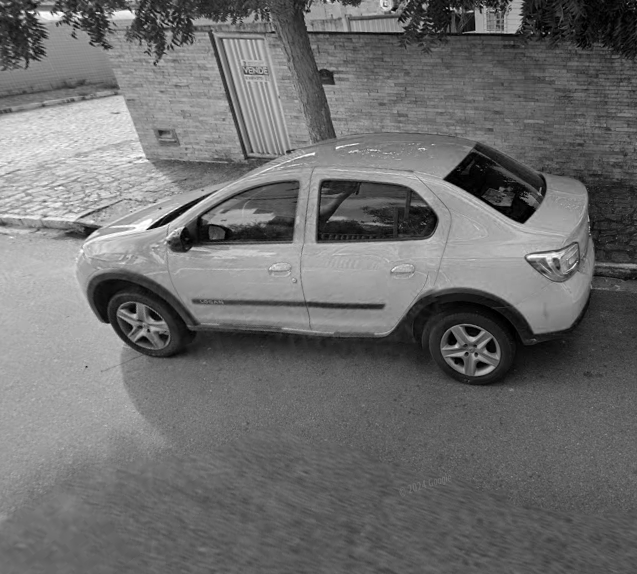car: (72, 129, 597, 387)
